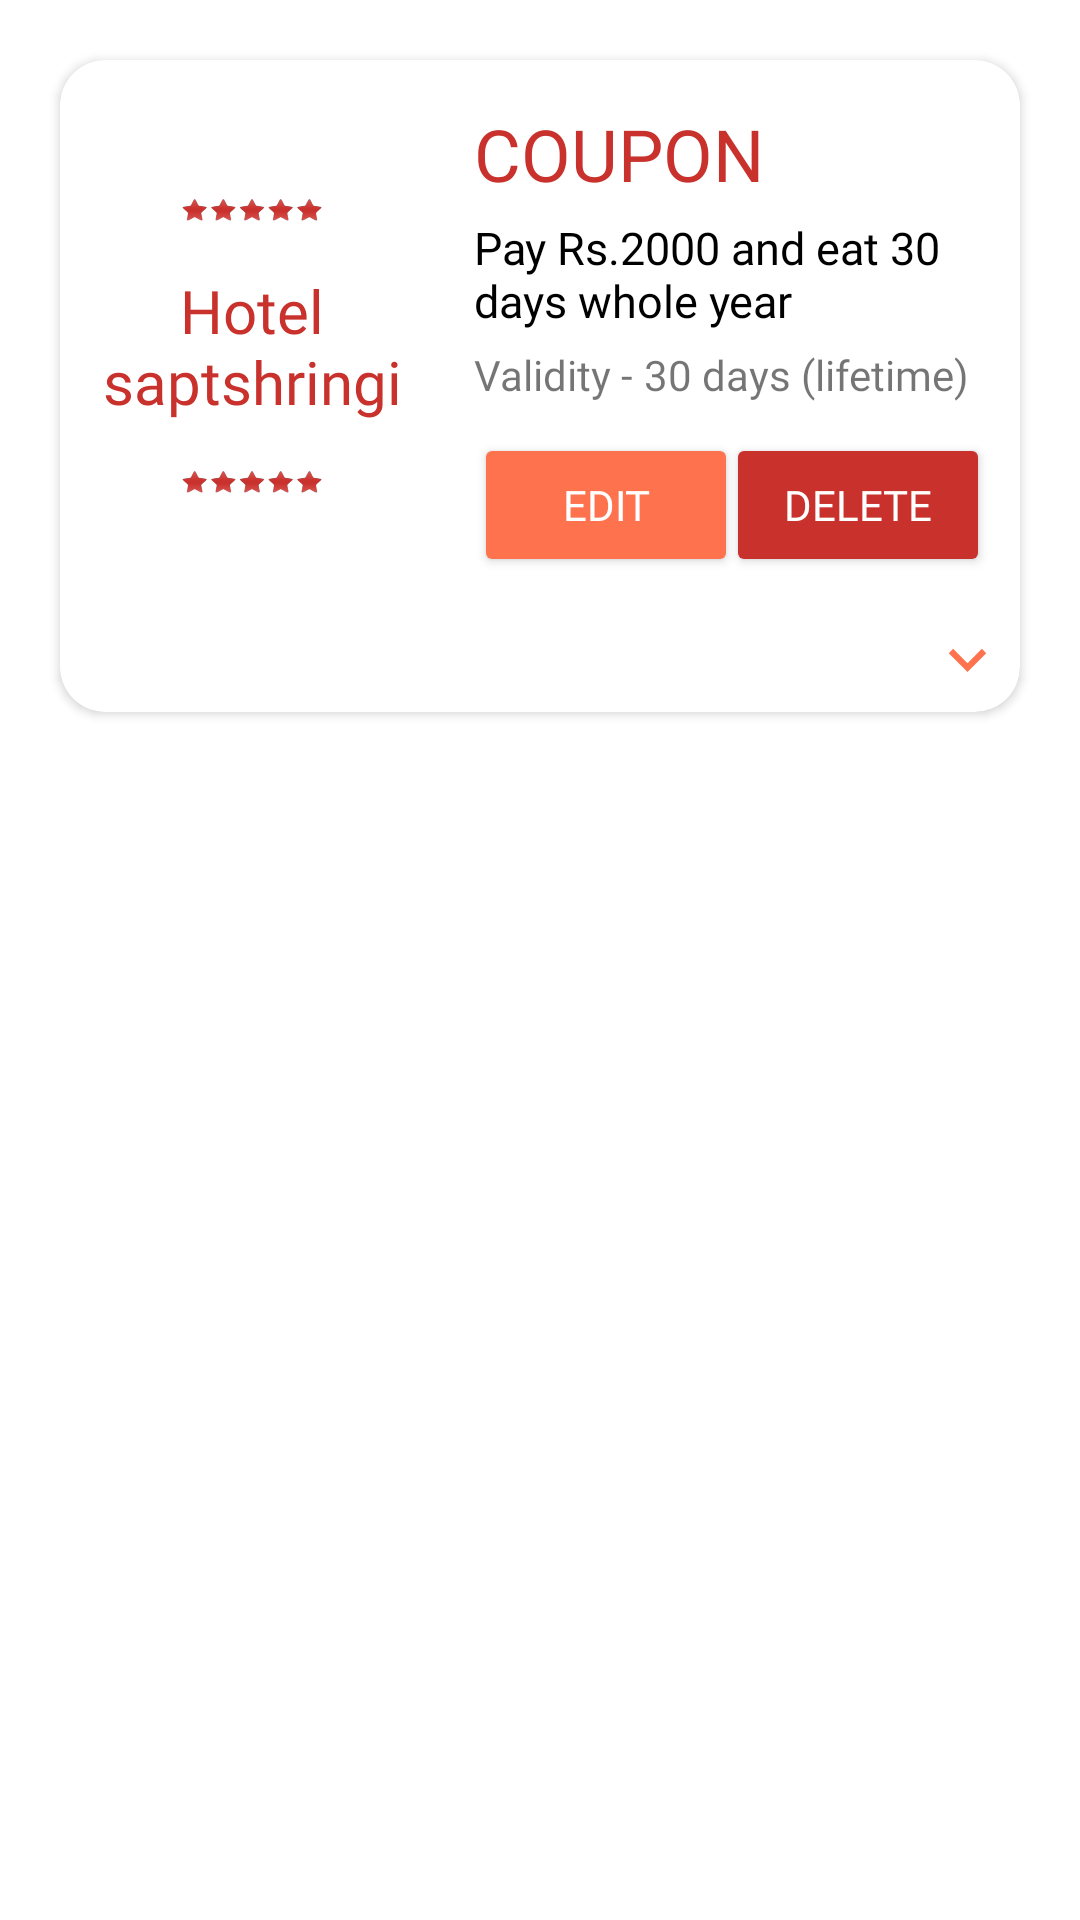

Named icons in this screenshot (1080px x 1920px) and their centers, [x,y]:
keyboard arrow down: [967,660]
